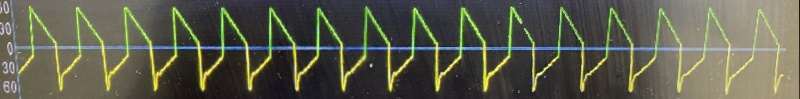peepi: (16, 0, 794, 99)
